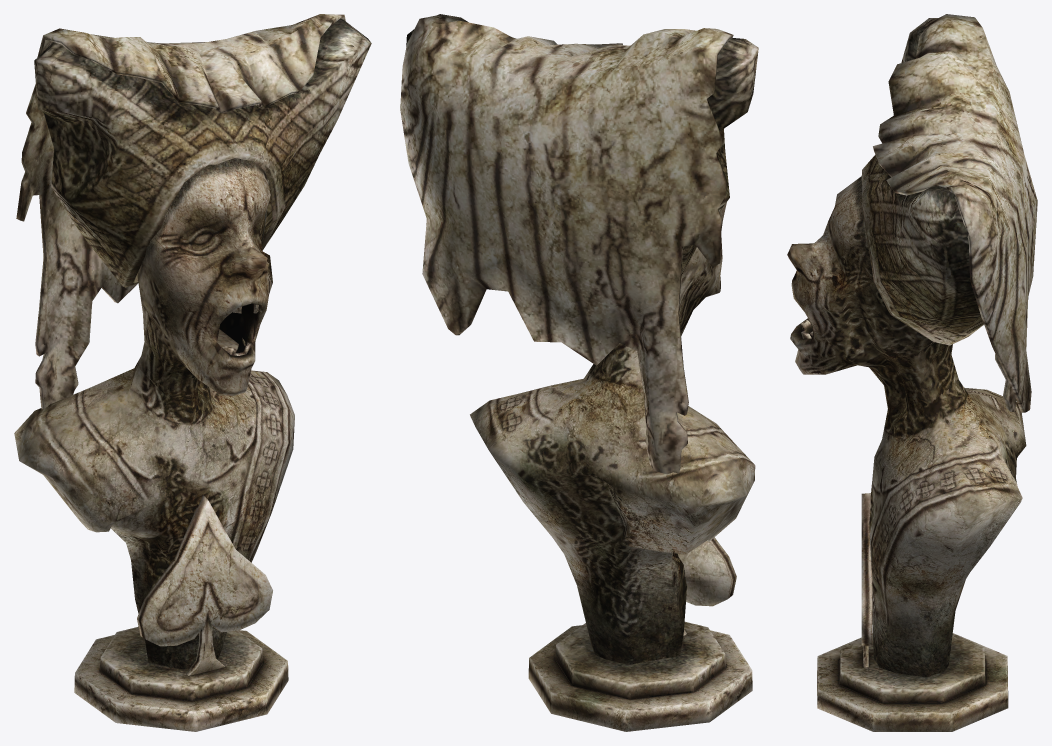
File: Queen Statue B.obj
The picture shows the model from 3 angles, left to right: view 1: azimuth 30°, elevation 25°; view 2: azimuth 150°, elevation 25°; view 3: azimuth 270°, elevation 25°; orthographic projection. The views are drawn at different scales.
Visible parts, largest first — view 1: QStatuesB; view 2: QStatuesB; view 3: QStatuesB.
Boxes of the visible parts, x1,y1,x2,y2 form: QStatuesB: (14, 14, 371, 731); QStatuesB: (400, 14, 758, 731); QStatuesB: (787, 14, 1037, 731).
Size of the model in its own units: 2.11 by 3.94 by 1.42.
Materials: 1 (1 with a texture image).
